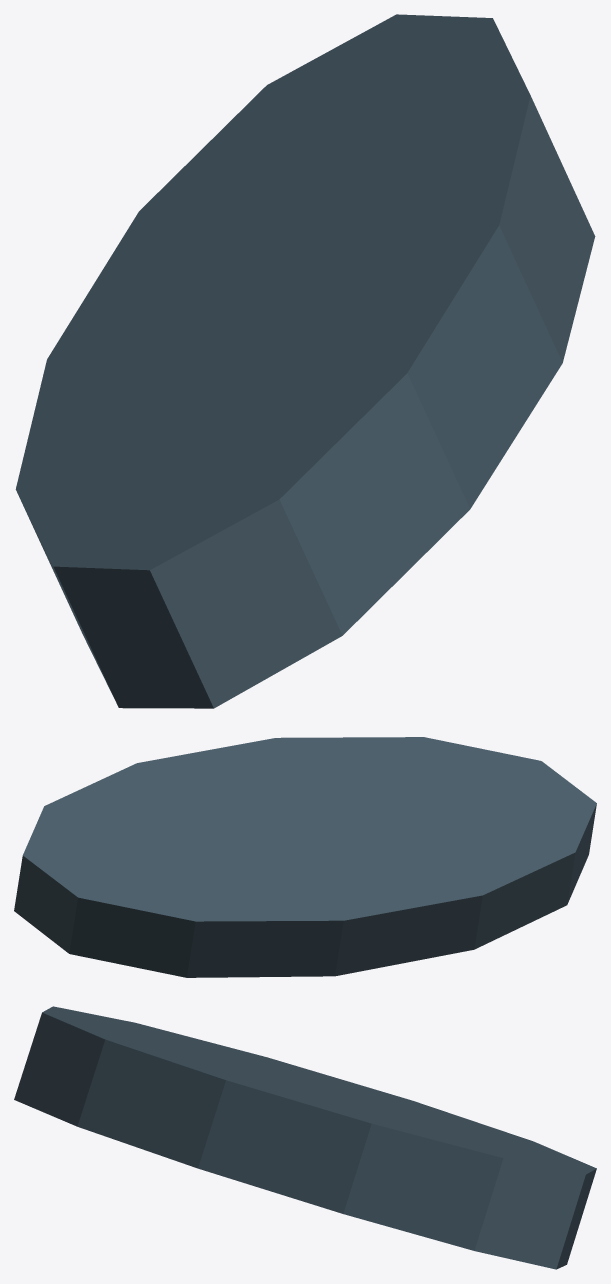
The model's file is astronaut_base_group1481515652_lev4.glb.
3 renders of one model, top to bottom at view 1: azimuth 30°, elevation 25°; view 2: azimuth 150°, elevation 25°; view 3: azimuth 270°, elevation 25°, orthographic. The views are drawn at different scales.
Parts seen in each view (by area): view 1: astronaut_base_group1481515652_lev4; view 2: astronaut_base_group1481515652_lev4; view 3: astronaut_base_group1481515652_lev4.
Boxes of the visible parts, box(x1,y1,x2,y2) form: astronaut_base_group1481515652_lev4: box(15, 14, 595, 708); astronaut_base_group1481515652_lev4: box(14, 737, 596, 977); astronaut_base_group1481515652_lev4: box(14, 1006, 596, 1269).
Bounding box in the file's own units: 0.2318 × 0.0895 × 0.2499.
